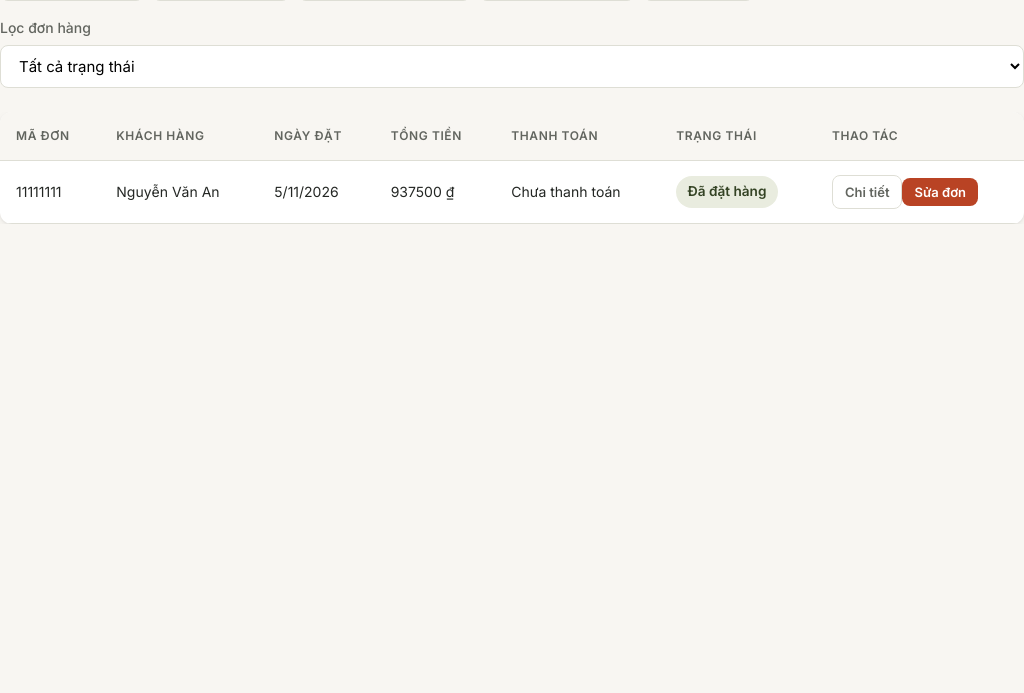
Test: admin form blocks an invalid address before calling the API
The image size is (1024, 693).
Click the button "Sửa đơn" at (940, 192), box [902,178,978,206]
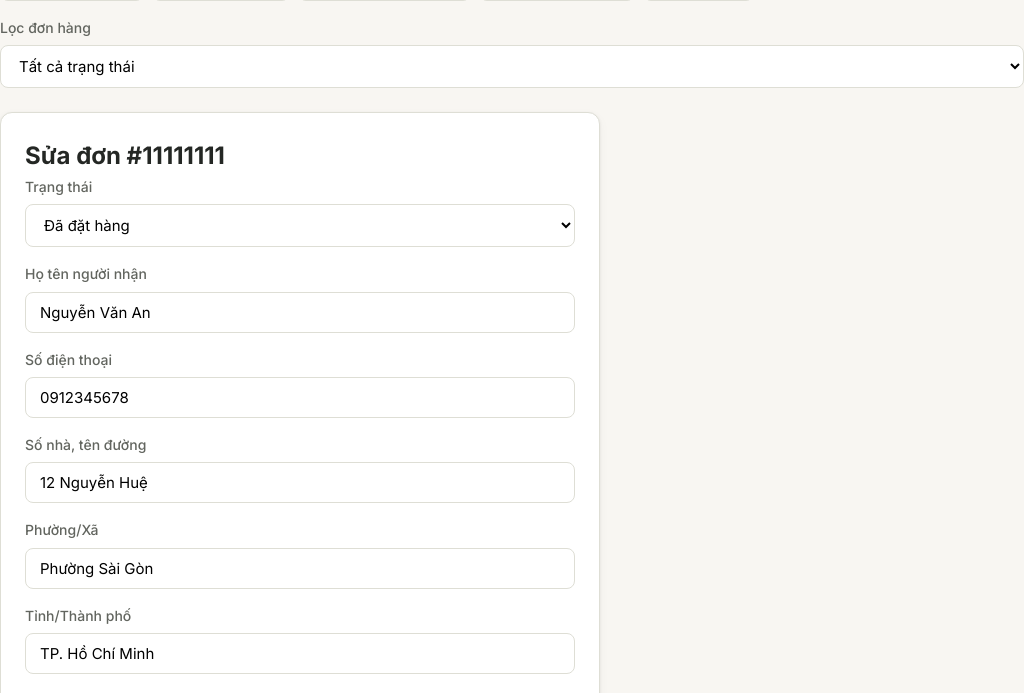
Type "123" into the field labelled "Số điện thoại" at (300, 398), box [25,377,575,418]
(page scrolled)
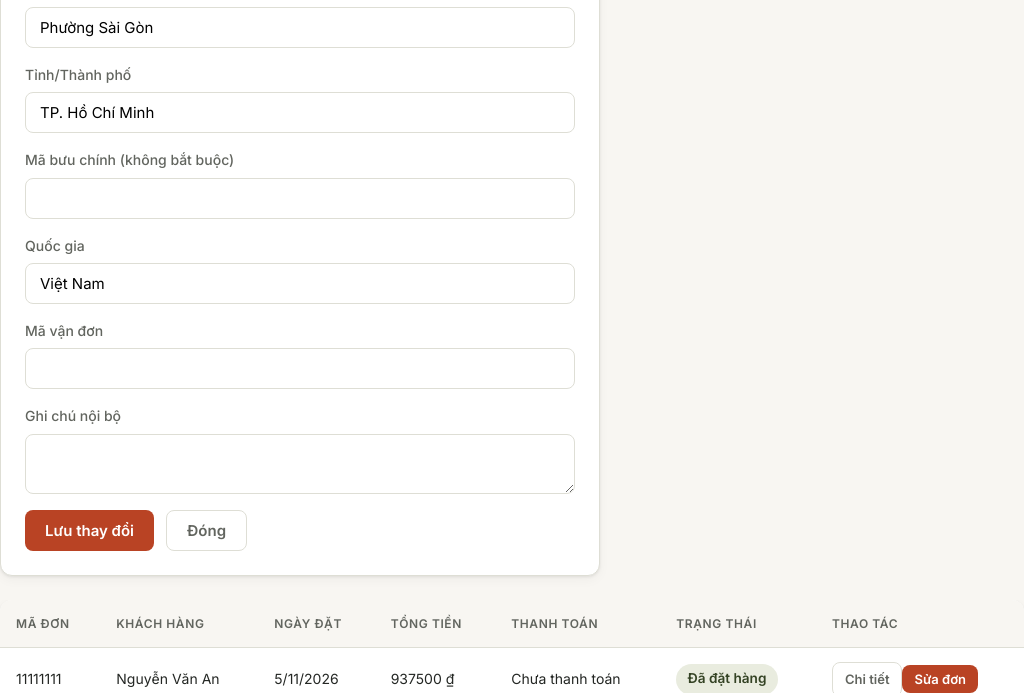
Click the button "Lưu thay đổi" at (90, 530), box [25,510,154,551]
(page scrolled)
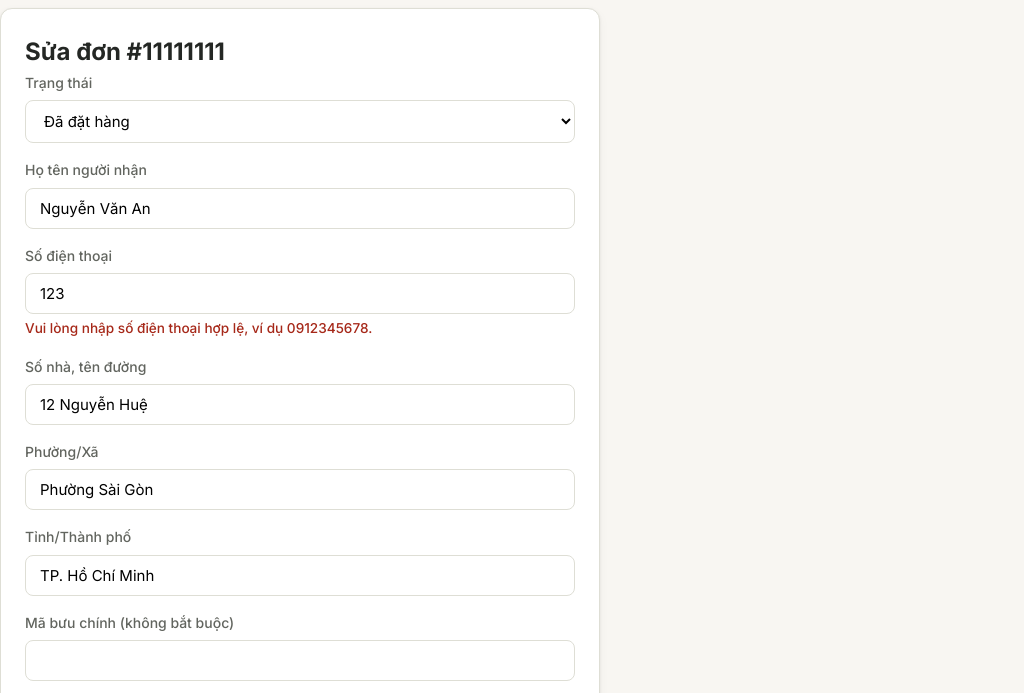
Expected: the text "Vui lòng nhập số điện thoại hợp lệ, ví dụ 0912345678." is shown, [25,320,372,336]
